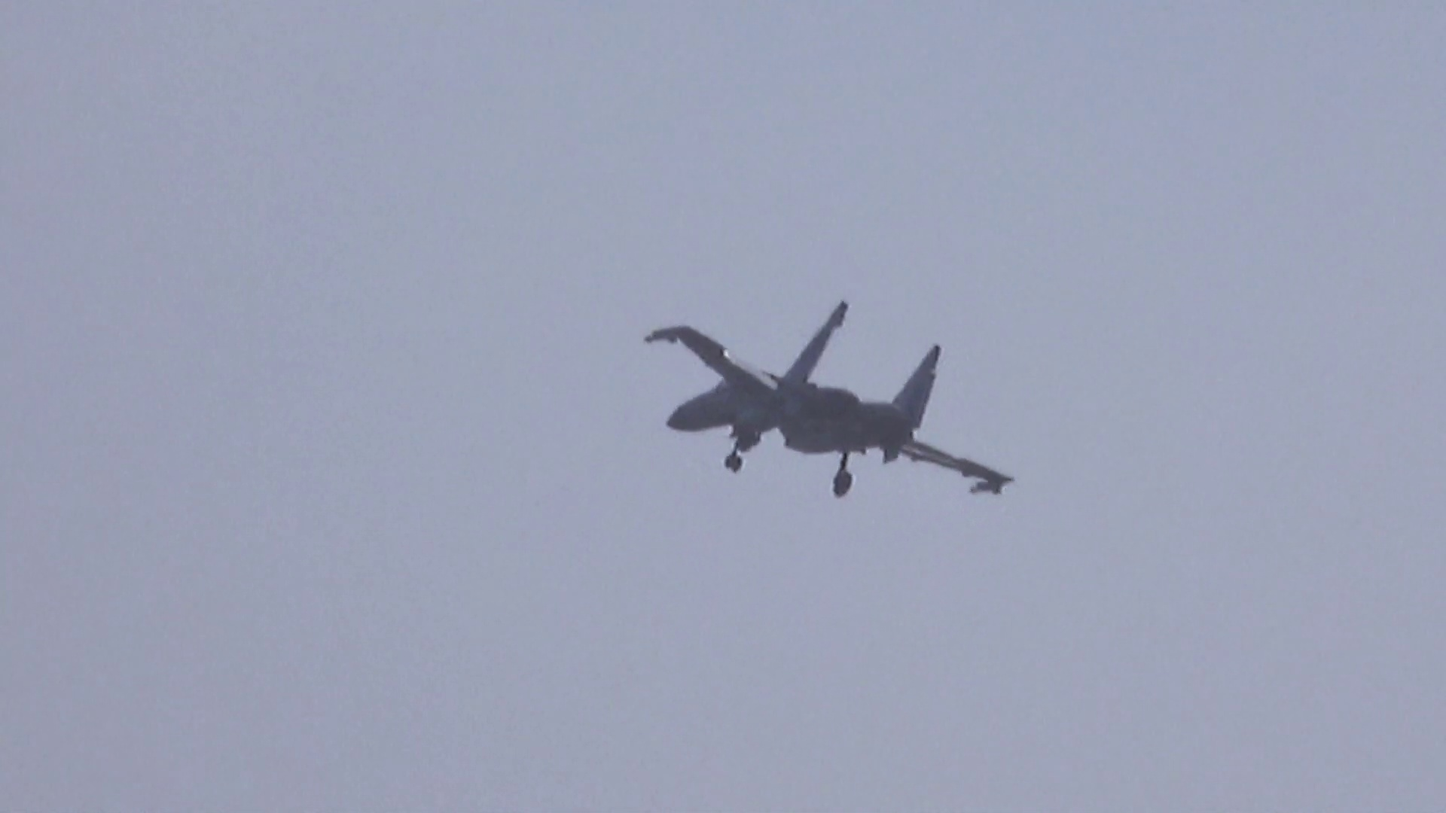Su35: (646, 300, 1014, 497)
